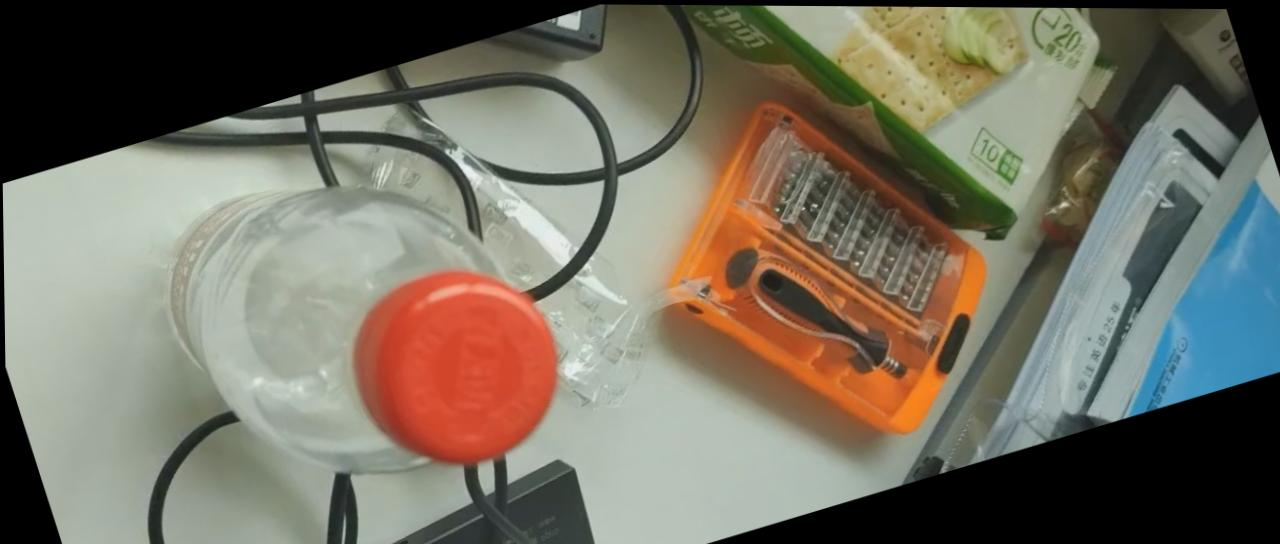cardboard: (693, 8, 1097, 252)
plastic: (152, 74, 614, 526), (666, 102, 984, 431), (147, 410, 357, 543)
